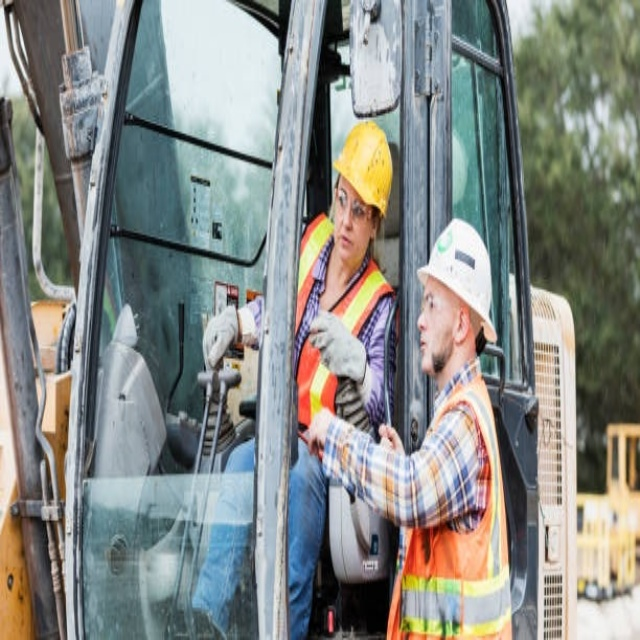Gafas: (337, 185, 376, 227), (418, 286, 462, 318)
Guantes: (305, 308, 368, 383), (199, 298, 242, 373)
Sin_mascara: (416, 328, 438, 371), (332, 227, 358, 263)
